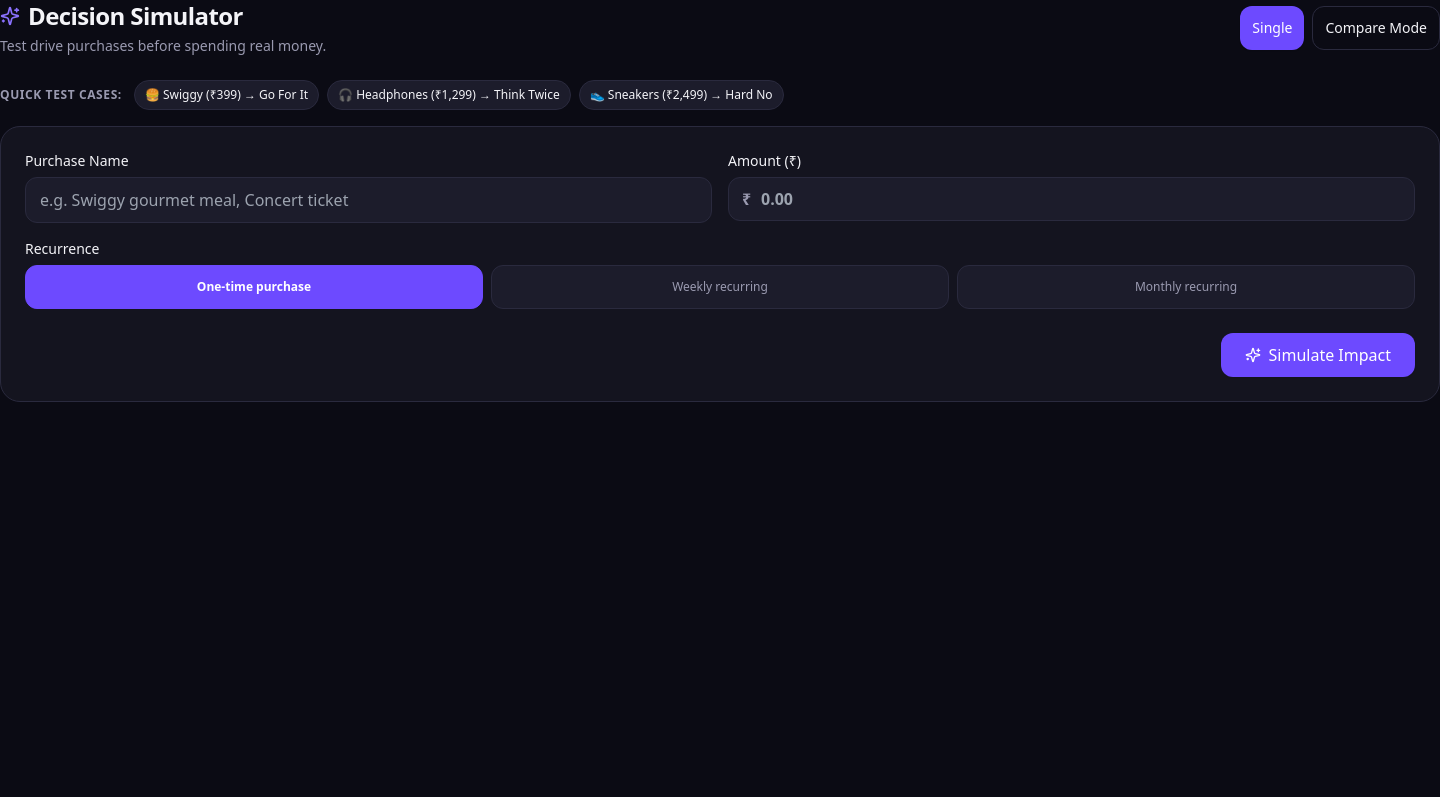
Scenario: Decision Simulator View › evaluates an expensive expense (₹2,499 Sneakers) as HARD NO via quick scenario
The width and height of the screenshot is (1440, 797).
What coordinates should you click on to do the following:
click the button "👟 Sneakers (₹2,499) → Hard No"
I would click on:
 (681, 95)
Its box is left=579, top=80, right=784, bottom=110.
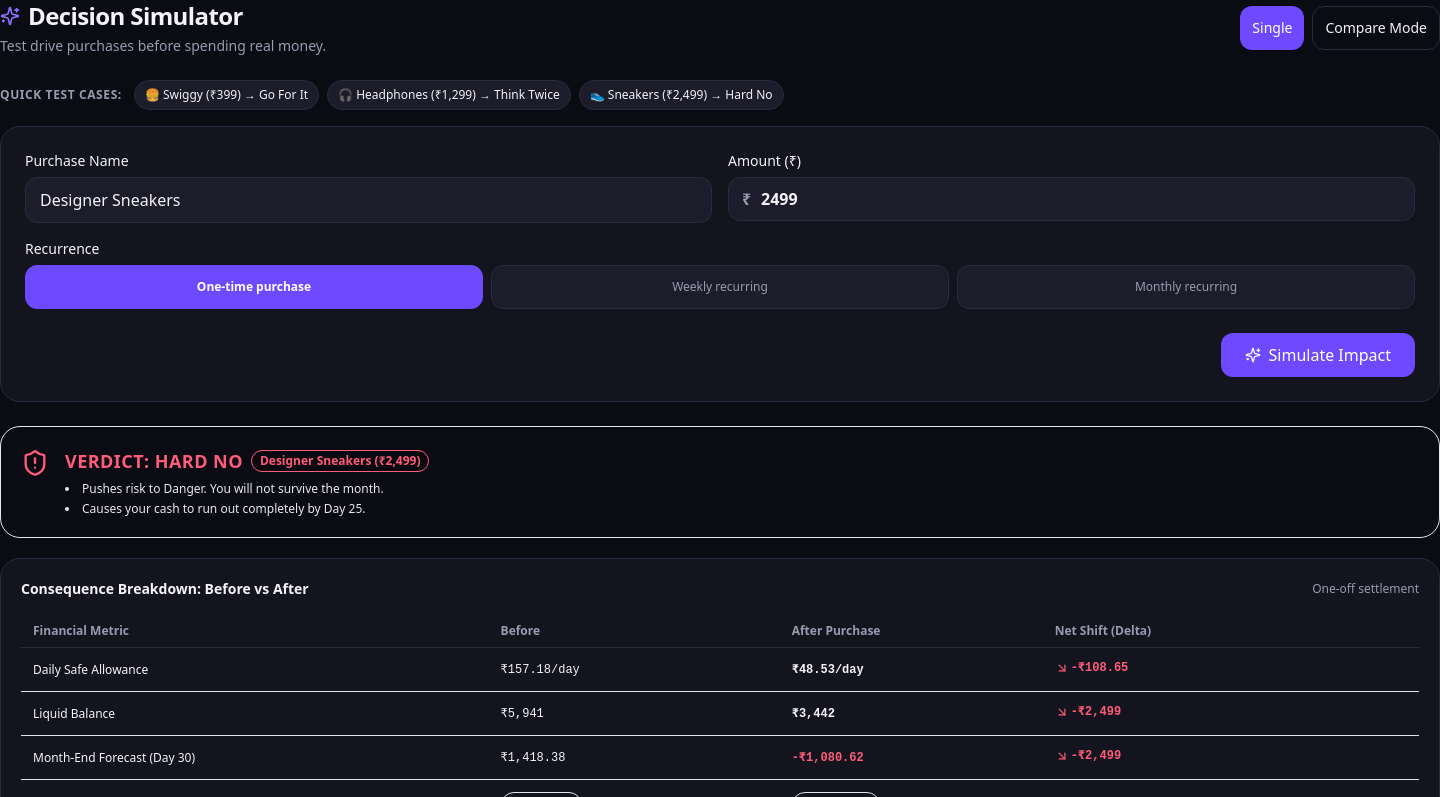
Result: the text "Verdict: HARD NO" is shown at left=65, top=447, right=243, bottom=475
